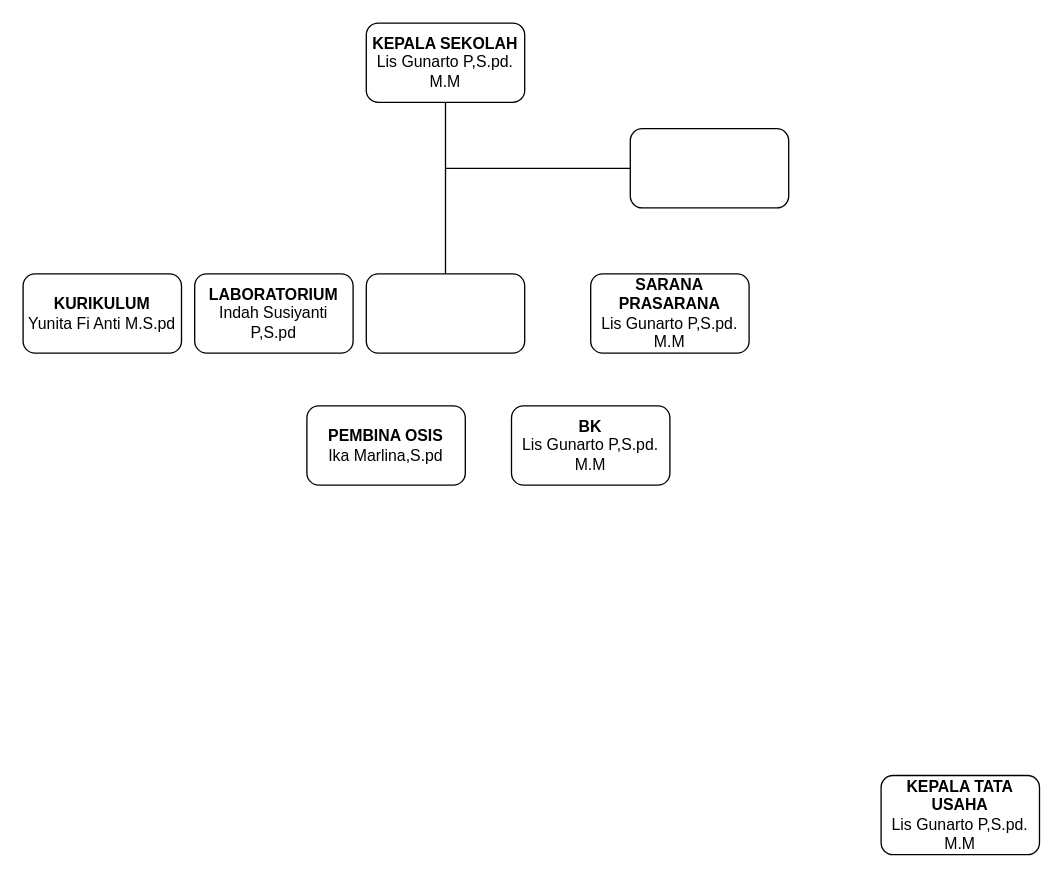
Some shapes in this 1063 by 878 pixel diagram are drawn without their labels. Here are the shapes that lost their labels. From the top down, the centre of each, then its label:
At point (709, 167): "WAKA HUMAS SARPAS Siti Topipah,S.Pd".
At point (445, 313): "KESISWAN Dewi Hartini,S.pd".
